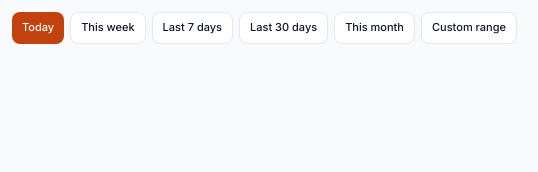
Test: DateRangePicker › toggles the custom range inputs open, starting from a matched preset
Expected: the field labelled "From" is not shown
Click the button "Custom range" at (469, 28), box [421, 12, 517, 44]
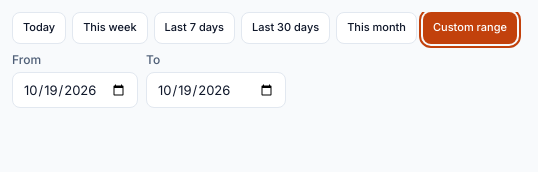
Expected: the date field labelled "From" is shown, [12, 72, 138, 108]
Expected: the date field labelled "To" is shown, [146, 72, 286, 108]
